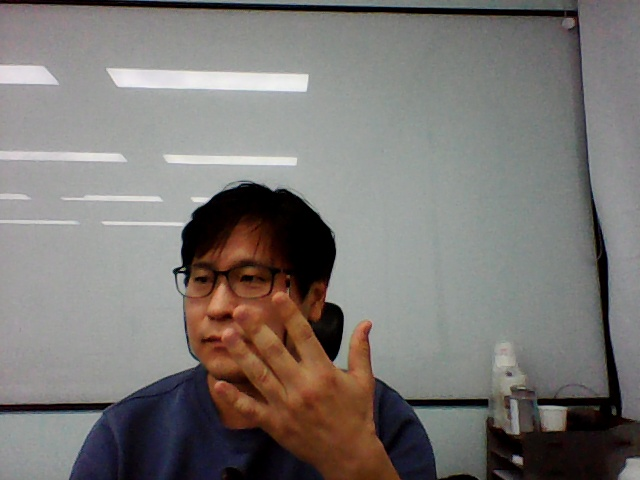five: (208, 293, 394, 452)
